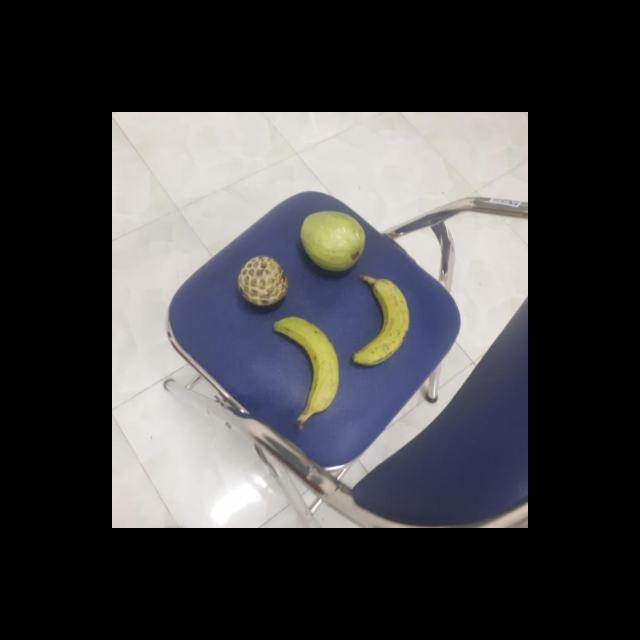Sakya fruit: (236, 254, 288, 308)
banana: (270, 318, 340, 410), (346, 274, 410, 364)
guava: (296, 212, 366, 274)
